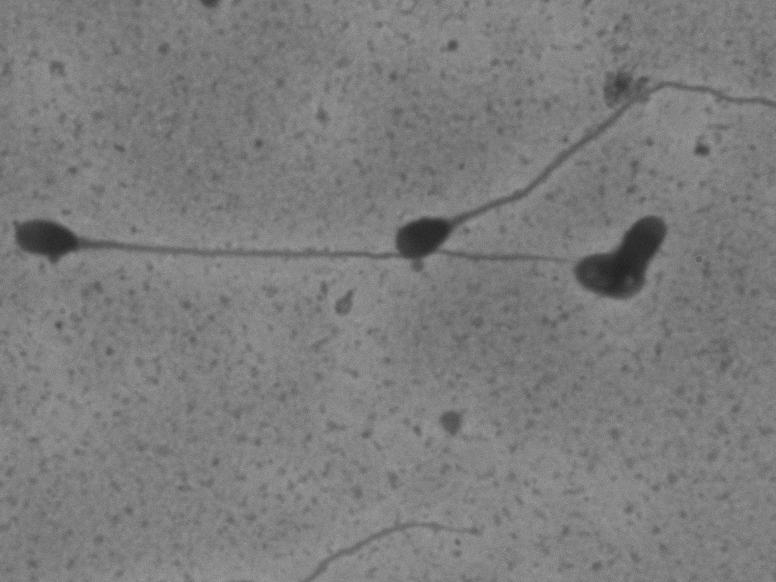Normal: (385, 73, 767, 264), (9, 211, 586, 276)
